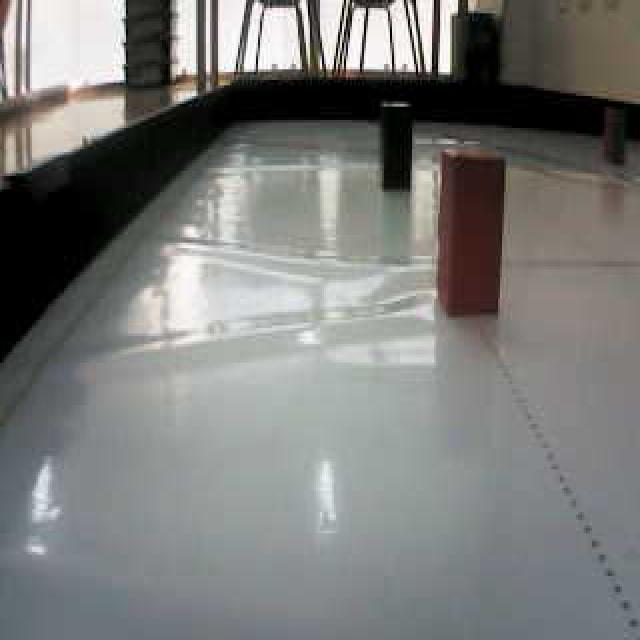rojo: (443, 146, 513, 329)
verde: (375, 90, 417, 204)
